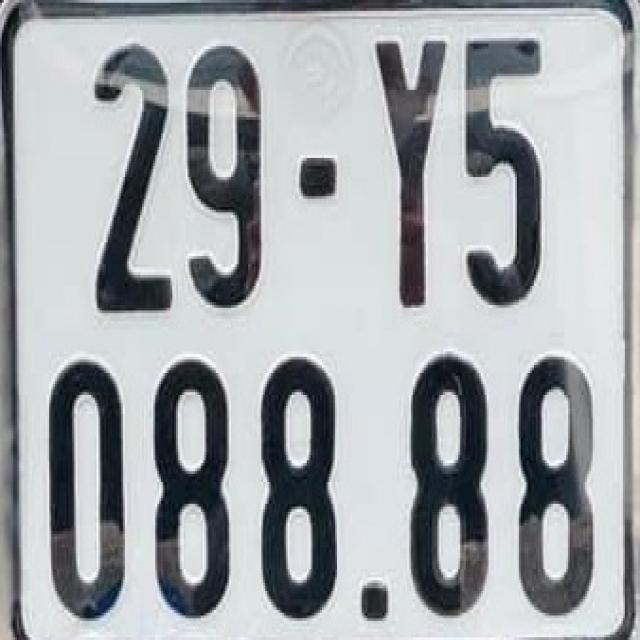0: (41, 351, 130, 621)
2: (83, 32, 178, 318)
5: (458, 24, 549, 310)
8: (253, 343, 344, 624), (404, 343, 494, 618), (511, 346, 600, 618), (148, 346, 236, 618)
9: (180, 35, 271, 314)
Y: (369, 19, 451, 311)
